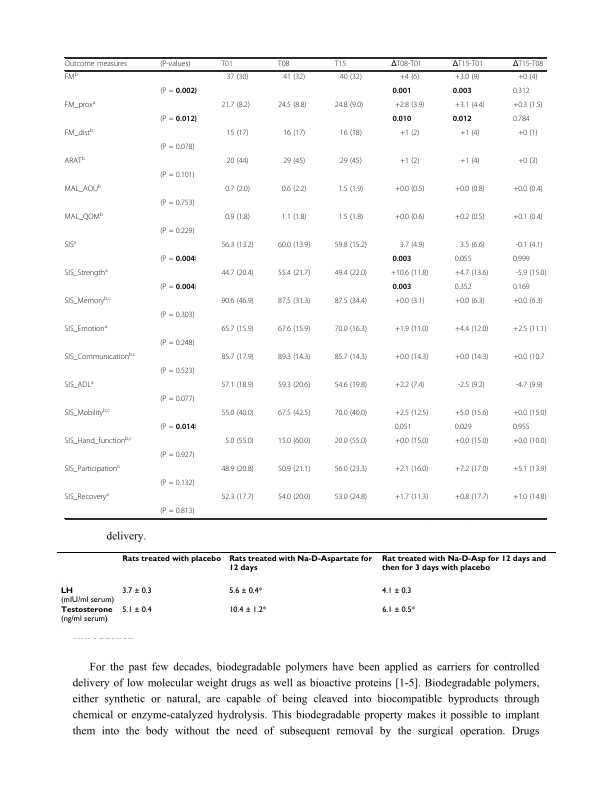borderless: (63, 55, 546, 518), (55, 550, 557, 632)
cell: (381, 555, 546, 573), (228, 555, 373, 573), (59, 586, 115, 605), (59, 606, 113, 624), (121, 555, 222, 564), (64, 351, 137, 362), (64, 435, 133, 446), (64, 463, 121, 474), (64, 60, 128, 69), (64, 295, 112, 306), (64, 407, 111, 418), (64, 491, 110, 502), (64, 267, 109, 278), (64, 323, 108, 334), (64, 211, 104, 222), (64, 183, 102, 194), (228, 605, 267, 615), (64, 99, 96, 110), (159, 87, 198, 96), (159, 115, 198, 124), (159, 255, 198, 264), (390, 269, 429, 278), (159, 283, 198, 292), (159, 423, 198, 432), (228, 586, 263, 596), (381, 605, 415, 615), (64, 127, 94, 138), (64, 379, 94, 390), (159, 143, 195, 152), (159, 171, 195, 180), (159, 199, 195, 208), (159, 227, 195, 236), (159, 311, 195, 320), (159, 339, 195, 348), (159, 367, 195, 376), (159, 395, 195, 404), (159, 451, 195, 460), (159, 479, 195, 488), (159, 507, 195, 516), (220, 241, 255, 250), (220, 269, 255, 278), (454, 269, 489, 278), (220, 297, 255, 306), (220, 325, 255, 334), (394, 325, 429, 334), (454, 325, 489, 334), (512, 325, 547, 334), (220, 353, 255, 362), (394, 353, 429, 362), (454, 353, 489, 362), (220, 381, 255, 390), (220, 409, 255, 418), (394, 409, 429, 418), (454, 409, 489, 418), (512, 409, 547, 418), (394, 437, 429, 446), (454, 437, 489, 446), (512, 437, 547, 446), (220, 465, 255, 474), (394, 465, 429, 474), (454, 465, 489, 474), (512, 465, 547, 474), (220, 493, 255, 502), (394, 493, 429, 502), (454, 493, 489, 502), (512, 493, 547, 502), (121, 586, 152, 596), (381, 586, 412, 596), (121, 605, 152, 615), (277, 241, 311, 250), (334, 241, 368, 250), (277, 269, 311, 278), (334, 269, 368, 278), (277, 297, 311, 306), (334, 297, 368, 306), (277, 325, 311, 334), (334, 325, 368, 334), (277, 353, 311, 362), (334, 353, 368, 362), (277, 381, 311, 390), (334, 381, 368, 390), (277, 409, 311, 418), (334, 409, 368, 418), (277, 437, 311, 446), (334, 437, 368, 446), (277, 465, 311, 474), (334, 465, 368, 474), (277, 493, 311, 502), (334, 493, 368, 502), (390, 60, 423, 69), (512, 353, 545, 362), (159, 60, 191, 69), (452, 60, 484, 69), (512, 60, 544, 69), (454, 101, 486, 110), (512, 101, 544, 110), (454, 185, 486, 194), (512, 185, 544, 194), (454, 213, 486, 222), (512, 213, 544, 222), (515, 269, 547, 278), (454, 297, 486, 306), (512, 297, 544, 306), (220, 101, 251, 110), (394, 101, 425, 110), (394, 185, 425, 194), (394, 213, 425, 222), (394, 297, 425, 306), (394, 381, 425, 390), (224, 437, 255, 446), (277, 101, 307, 110), (334, 101, 364, 110), (515, 241, 544, 250), (457, 381, 486, 390), (515, 381, 544, 390), (224, 185, 251, 194), (337, 185, 364, 194), (224, 213, 251, 222), (337, 213, 364, 222), (459, 241, 486, 250), (64, 155, 86, 166), (454, 73, 480, 82), (281, 185, 307, 194), (281, 213, 307, 222), (399, 241, 425, 250), (282, 73, 306, 82), (339, 73, 363, 82), (282, 129, 306, 138), (339, 129, 363, 138), (282, 157, 306, 166), (339, 157, 363, 166), (226, 73, 249, 82), (226, 129, 249, 138), (226, 157, 249, 166), (399, 73, 420, 82), (517, 73, 538, 82), (399, 129, 420, 138), (459, 129, 480, 138), (517, 129, 538, 138), (399, 157, 420, 166), (459, 157, 480, 166), (517, 157, 538, 166), (391, 87, 412, 95), (391, 115, 412, 123), (391, 255, 412, 263), (391, 283, 412, 291), (64, 71, 79, 82), (512, 87, 530, 96), (512, 115, 530, 124), (454, 255, 472, 264), (512, 255, 530, 264), (454, 283, 472, 292), (512, 283, 530, 292), (394, 423, 412, 432), (454, 423, 472, 432), (512, 423, 530, 432), (452, 87, 472, 95), (452, 115, 472, 123), (64, 239, 77, 250), (220, 60, 234, 69), (277, 60, 290, 69), (334, 60, 347, 69)
